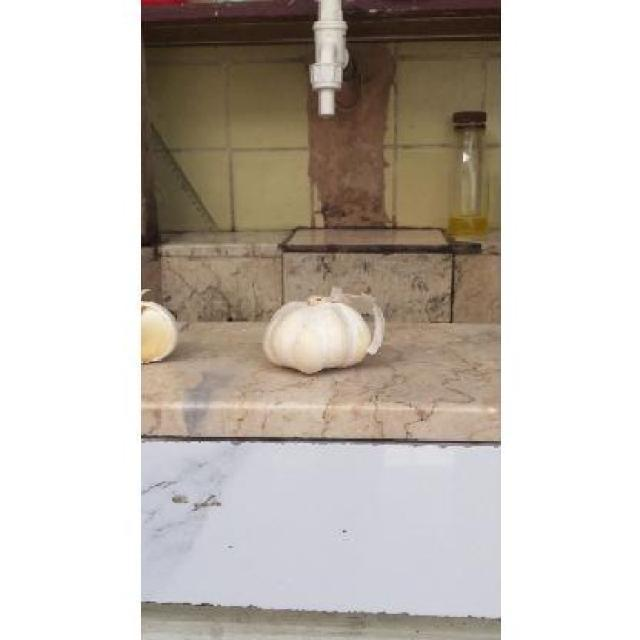garlic: (262, 289, 385, 373), (141, 301, 178, 362)
